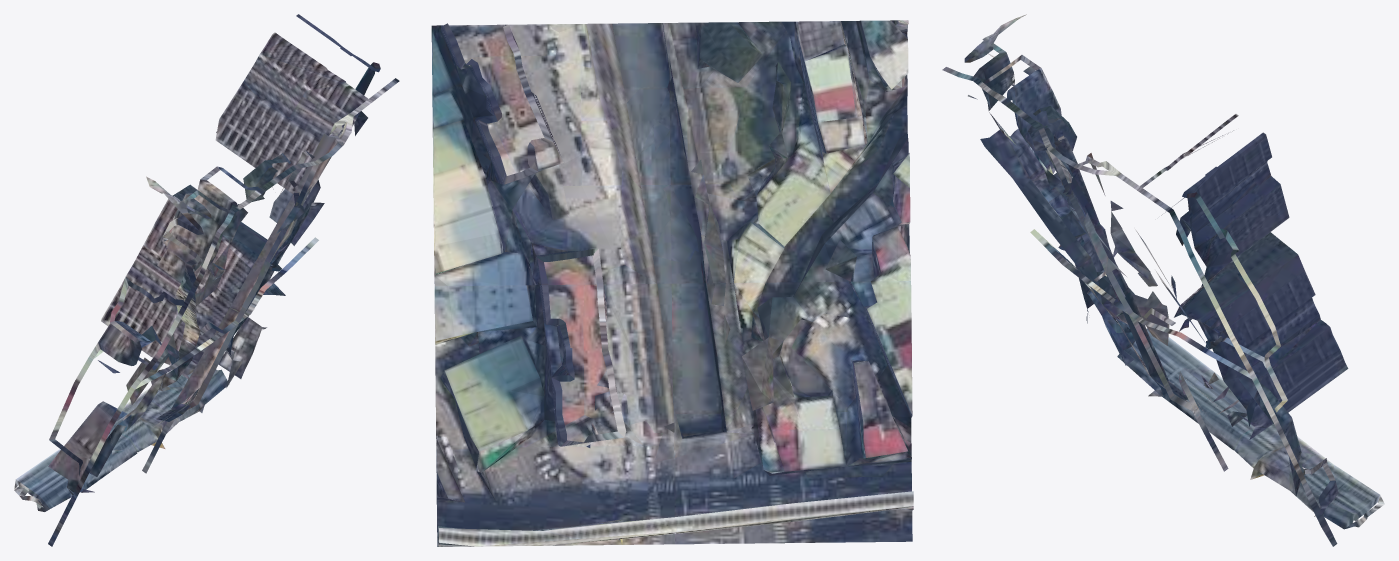
3 views of the same model, side by side, from view 1: azimuth 30°, elevation 25°; view 2: azimuth 150°, elevation 25°; view 3: azimuth 270°, elevation 25° (orthographic). The views are drawn at different scales.
Size of the model in its own units: 160 by 157 by 147.
1 material, 1 textured.
